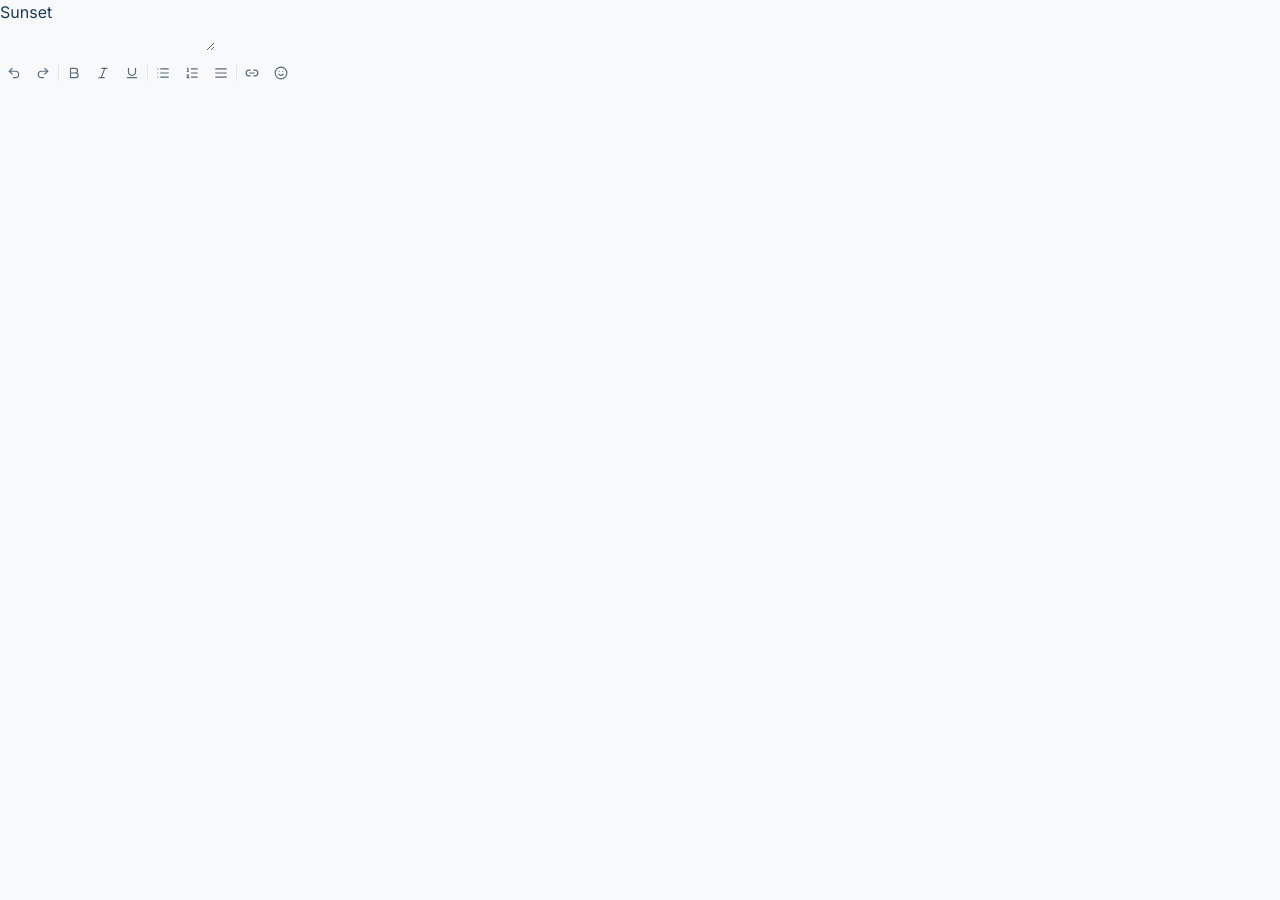
Test: CaptionToolbar › inserts an emoji where the cursor was
Step 1. Click the button named "Insert emoji" → click(281, 73), box x1=267 y1=59 x2=295 y2=87
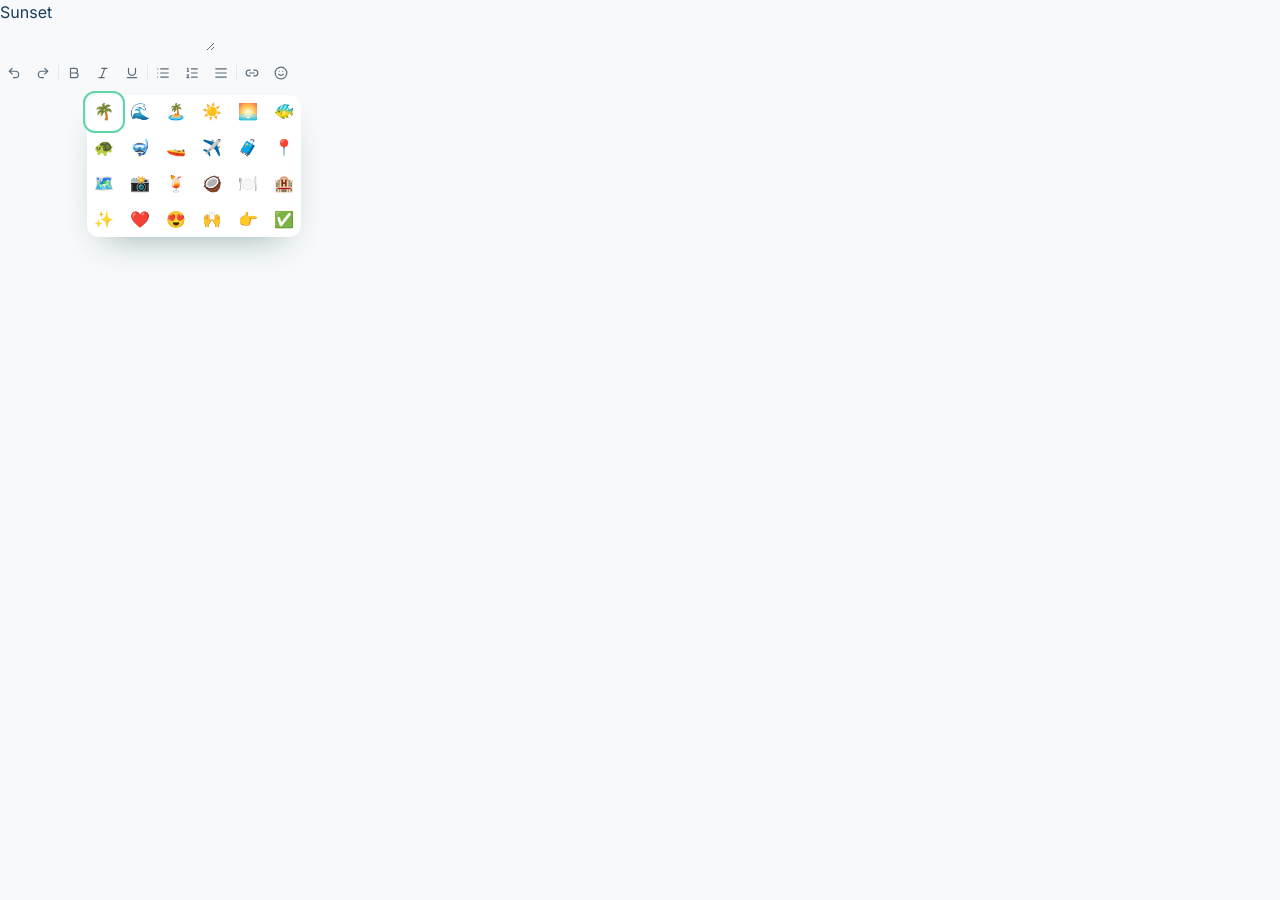
Step 2. Click the button named "palm tree" → click(104, 112), box x1=87 y1=95 x2=121 y2=129
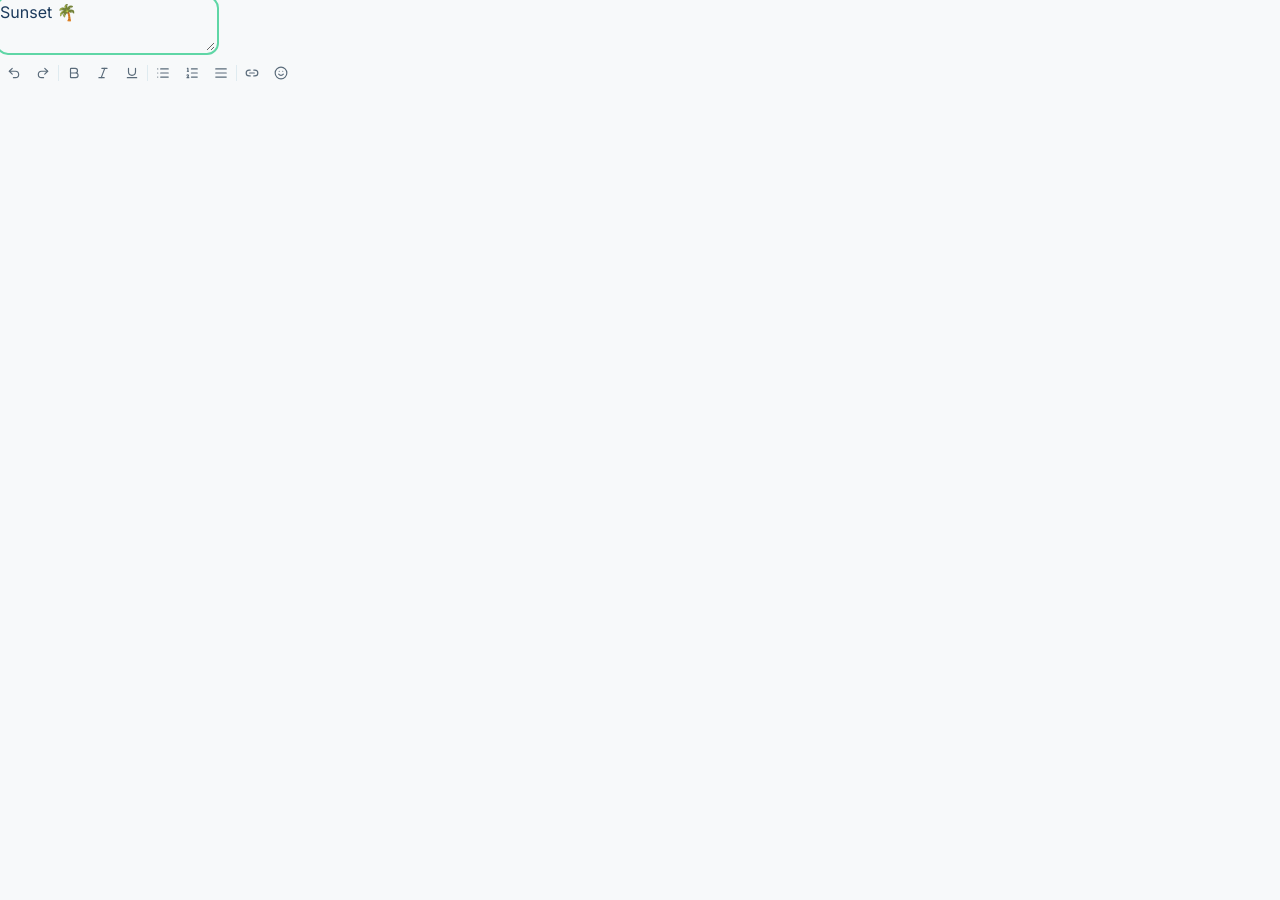
Expected: the text box named "Caption" holds "Sunset 🌴", x1=0 y1=0 x2=215 y2=51
